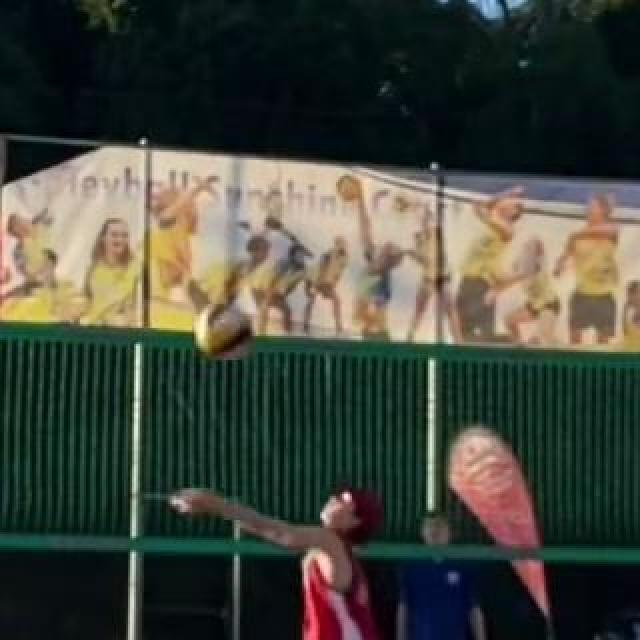volleyball: (194, 302, 252, 362)
